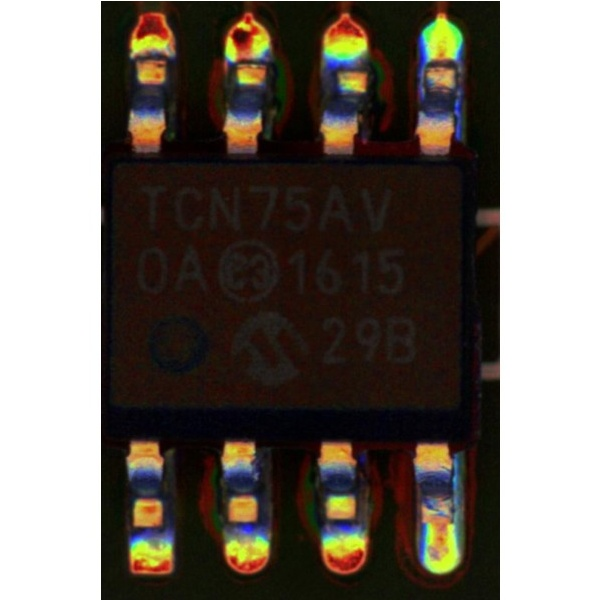Bad_podu: (428, 502, 448, 544), (428, 49, 450, 80)
Bad_qiaojiao: (235, 48, 256, 79)
